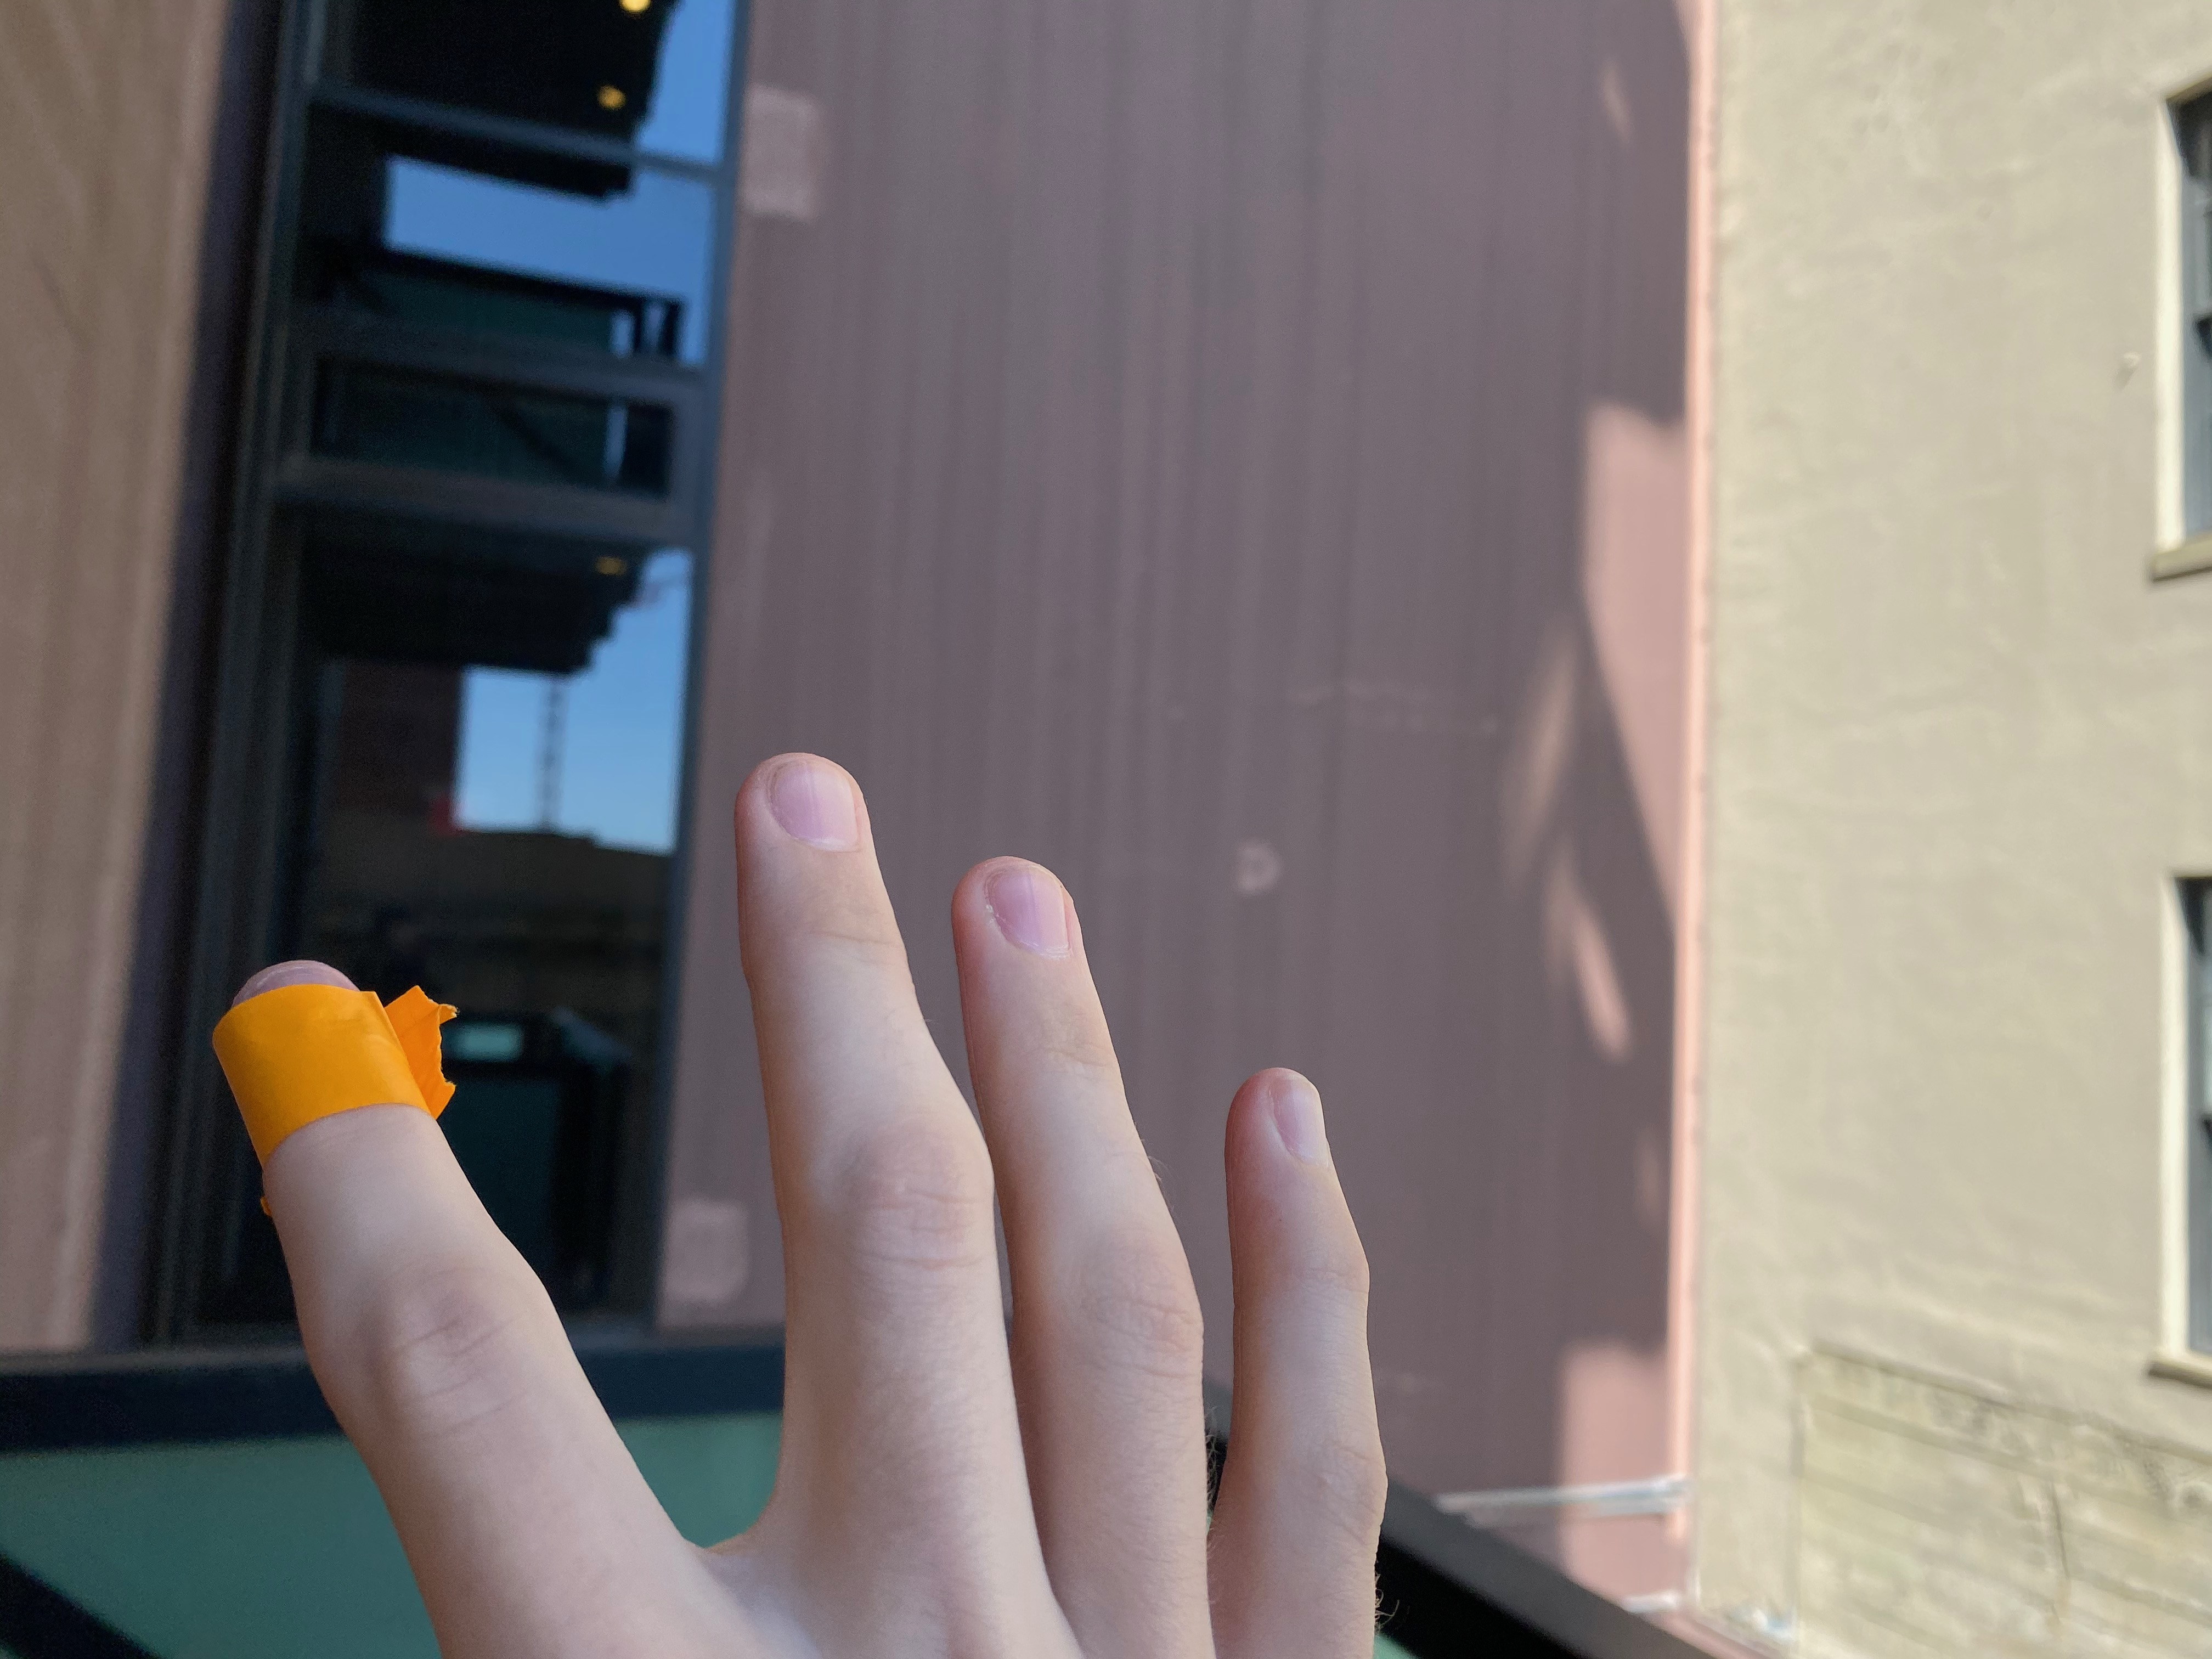fingertip: (179, 946, 484, 1208)
